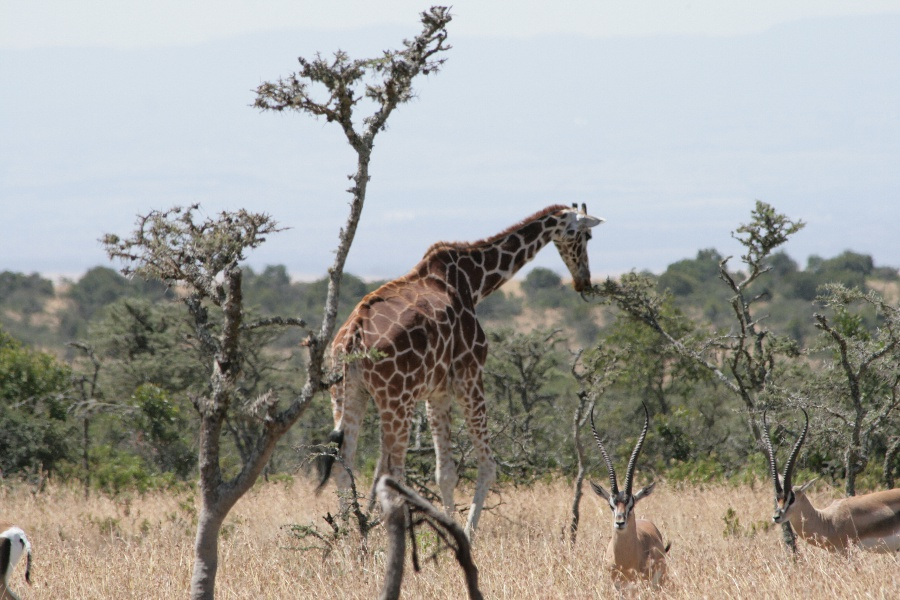giraffe: (318, 195, 610, 522)
